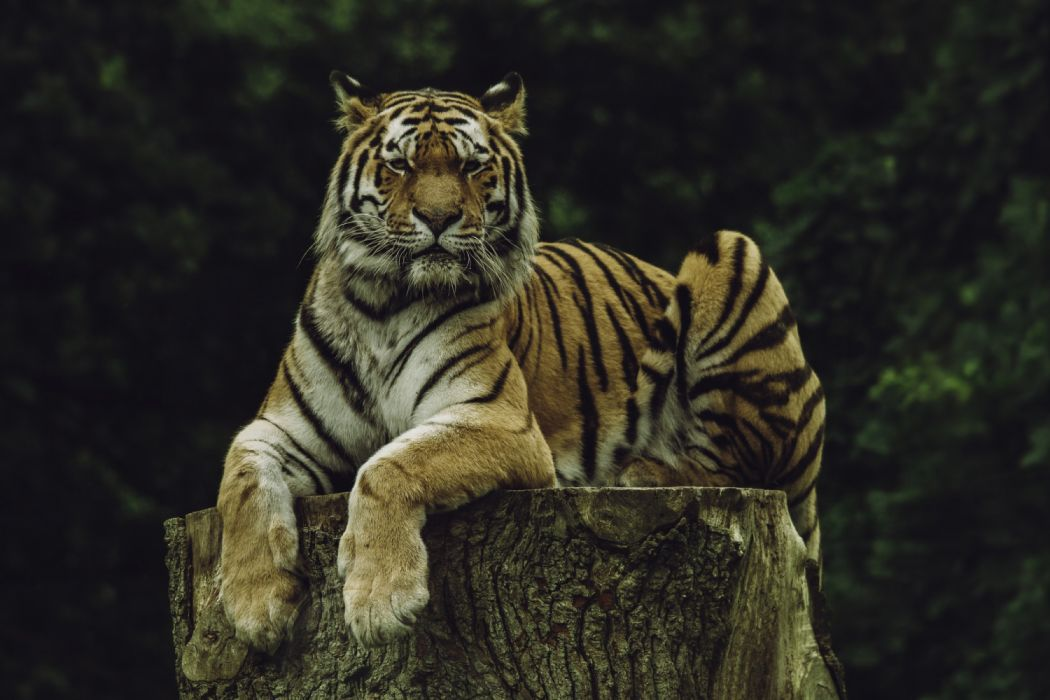Tigrew: (167, 34, 911, 659)
